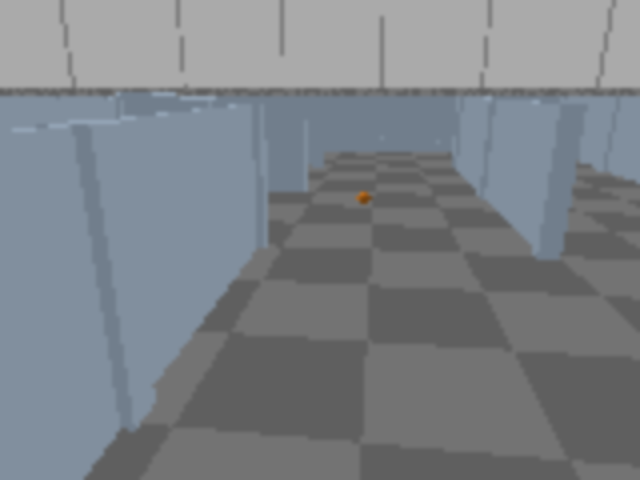puck: (356, 191, 373, 207)
